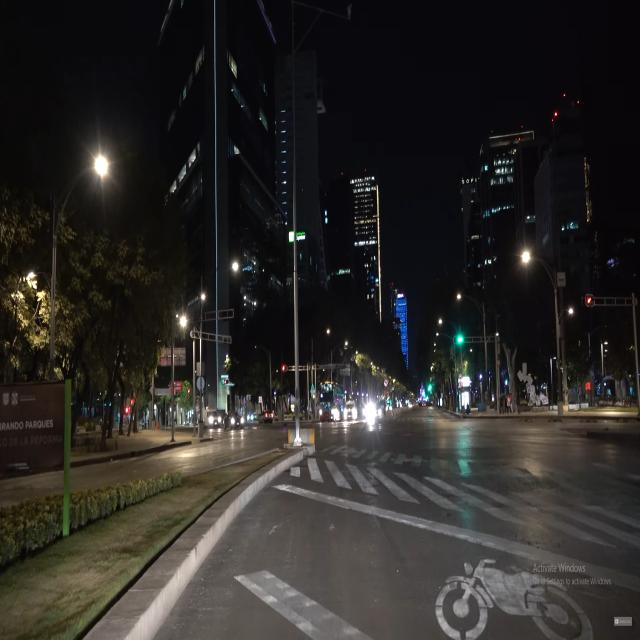headlights: (342, 406, 359, 422), (228, 416, 246, 429), (207, 414, 222, 427)
